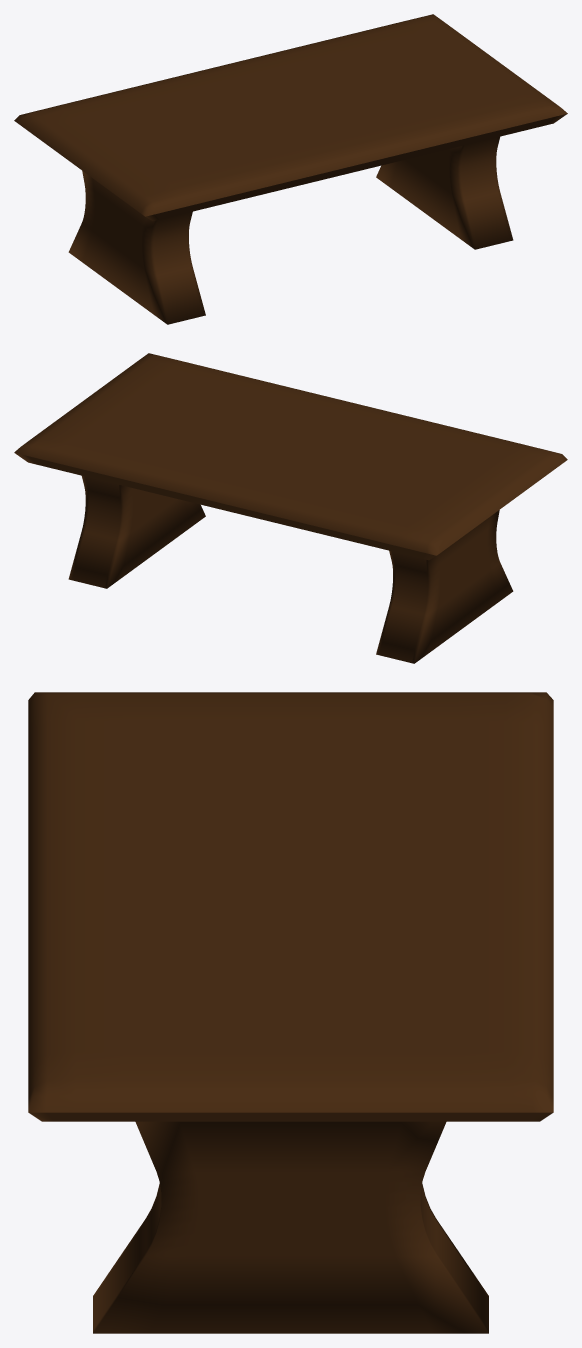
The model's file is mesa.fbx.
3 views of the same model, one above another, from view 1: azimuth 30°, elevation 25°; view 2: azimuth 150°, elevation 25°; view 3: azimuth 270°, elevation 25° (orthographic). The views are drawn at different scales.
Parts seen in each view (by area): view 1: Cube; view 2: Cube; view 3: Cube.
Part boxes in pixels (<box>): Cube: <box>14,14,567,324</box>; Cube: <box>14,353,567,663</box>; Cube: <box>28,692,553,1333</box>.
Size of the model in its own units: 1.34 by 0.4212 by 0.7211.
